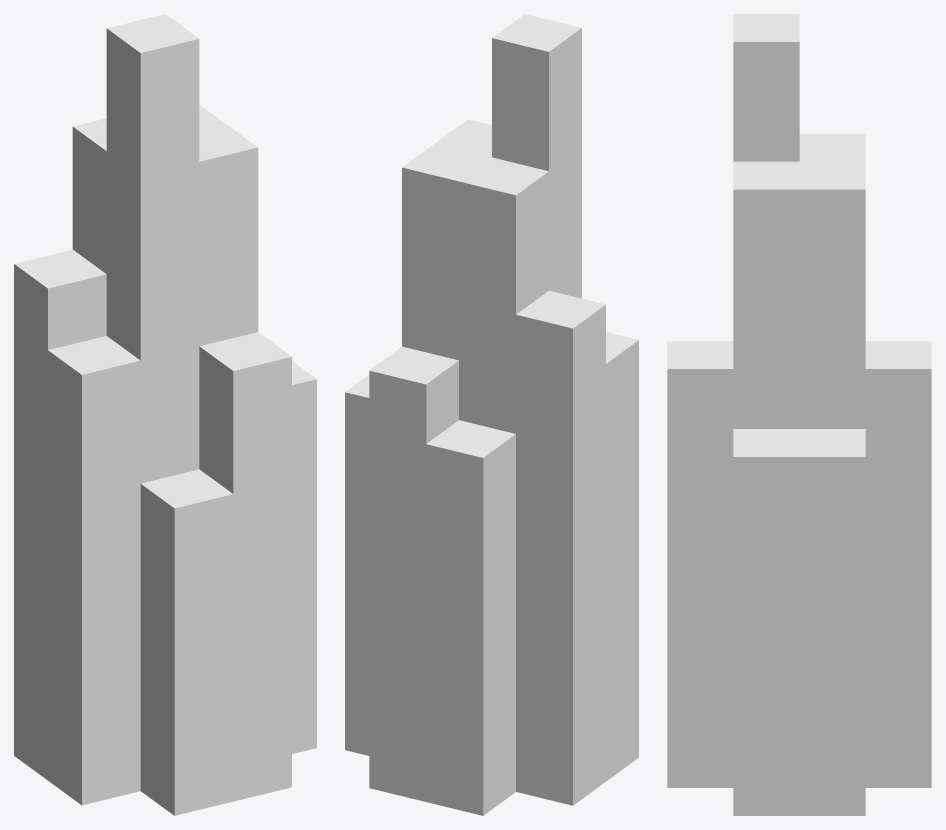
Rendered from iceshard1.obj.
3 renders of one model, left to right at view 1: azimuth 30°, elevation 25°; view 2: azimuth 150°, elevation 25°; view 3: azimuth 270°, elevation 25°, orthographic. The views are drawn at different scales.
Size of the model in its own units: 4 by 12 by 4.
Materials: 1 (1 with a texture image).
